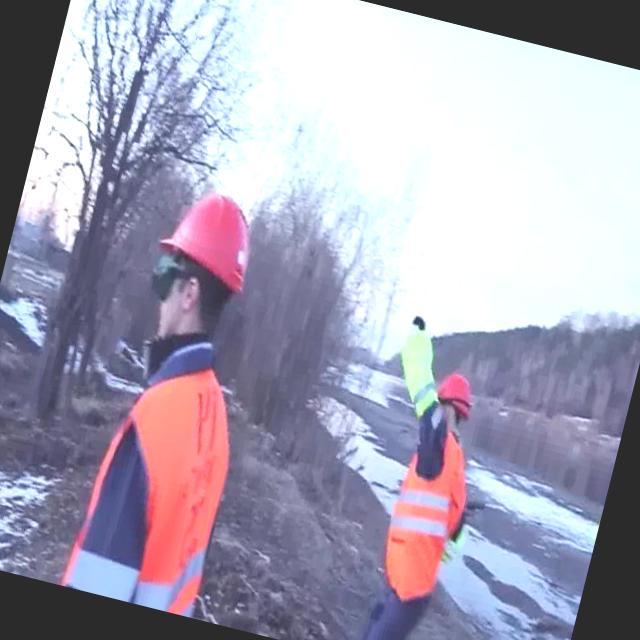helmet: (147, 179, 266, 299), (430, 368, 480, 421)
vest: (59, 336, 250, 614), (368, 435, 478, 610), (384, 322, 452, 428)
